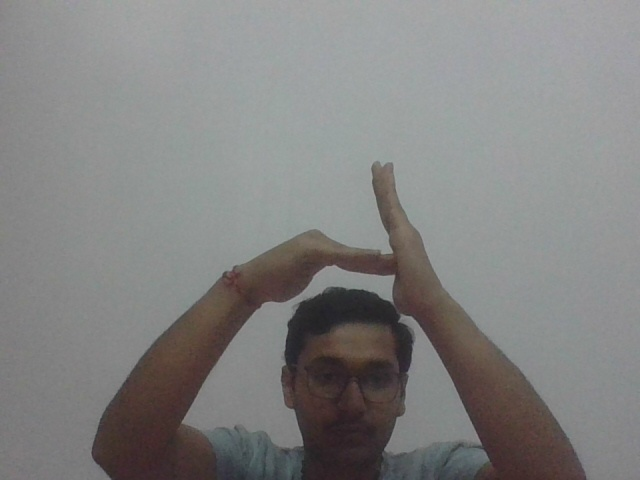Z: (261, 156, 445, 320)
